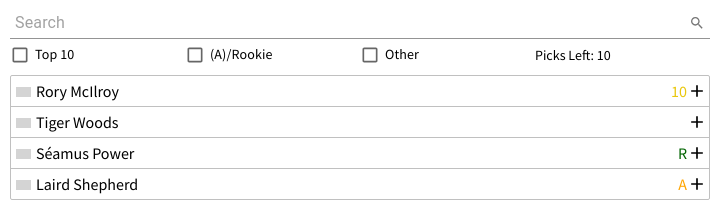
Test: Available Golfers List › checkbox toggles rookies and amateurs
The image size is (727, 217).
Click the checkbox labelled "(A)/Rookie" at (229, 54), box [185, 44, 273, 64]
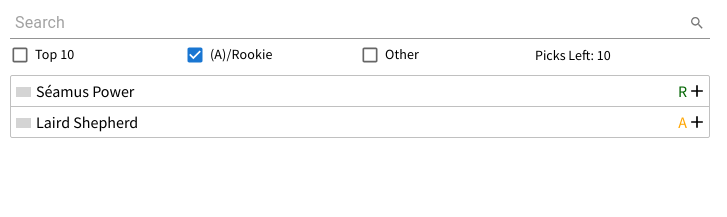
Expected: the list item "Séamus Power" is shown, [36, 81, 134, 101]
Expected: the list item "Laird Shepherd" is shown, [36, 112, 138, 132]
Expected: the list item "Tiger Woods" is gone
Click the checkbox labelled "(A)/Rookie" at (229, 54), box [185, 44, 273, 64]
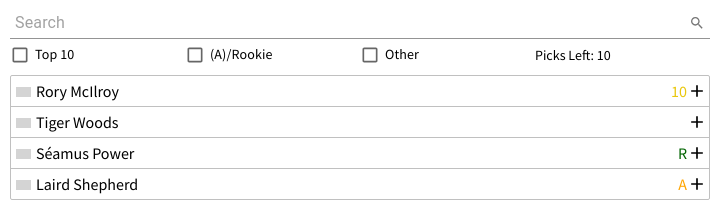
Expected: the list item "Séamus Power" is shown, [36, 143, 134, 163]
Expected: the list item "Tiger Woods" is shown, [11, 107, 709, 138]
Expected: the list item "Rory McIlroy" is shown, [36, 81, 119, 101]
